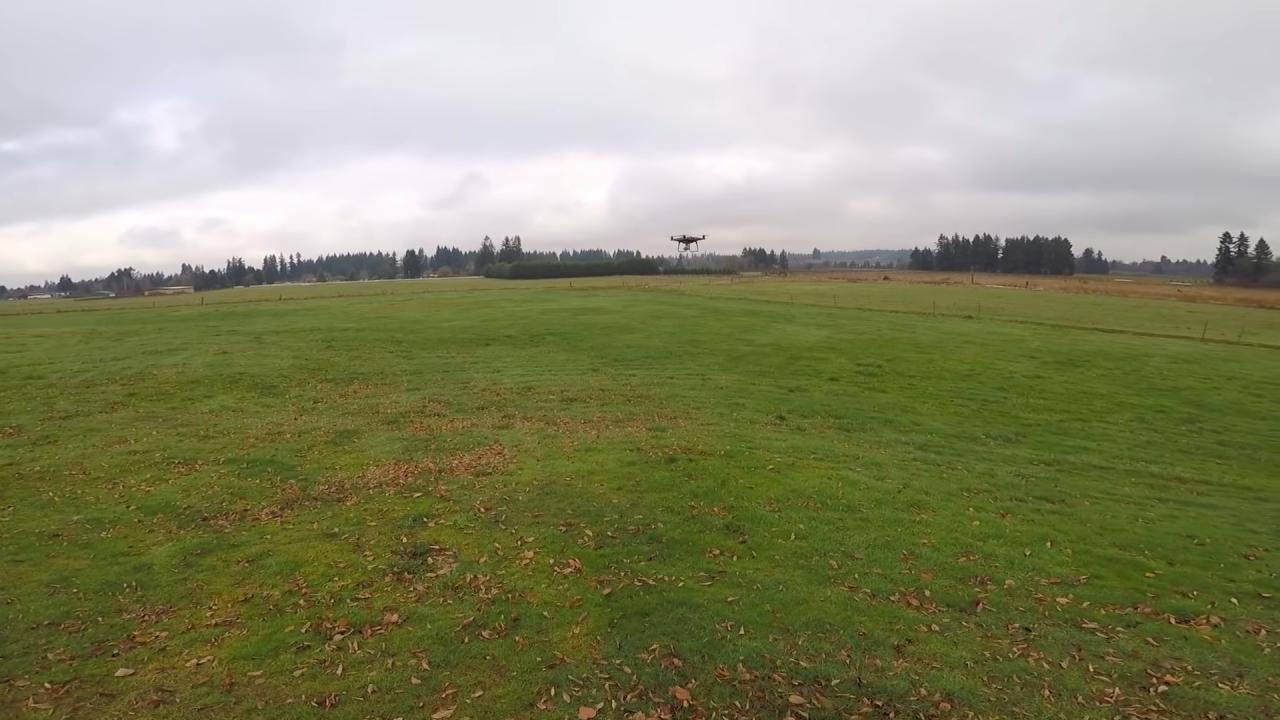Drone: (660, 225, 714, 259)
